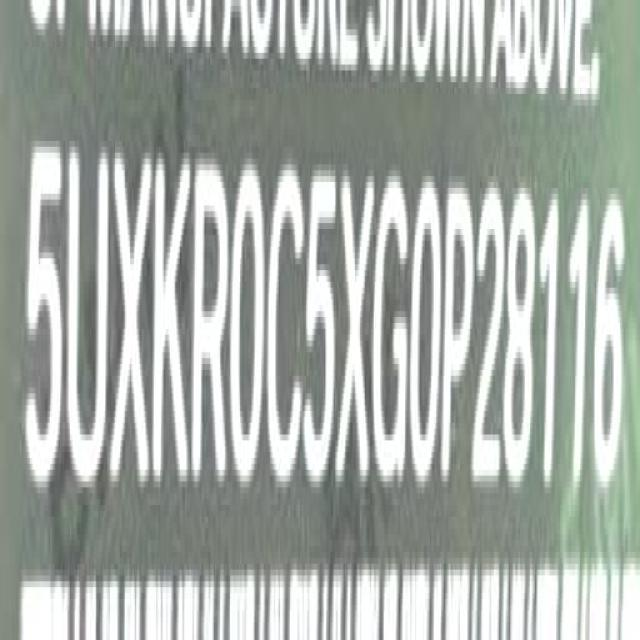0: (229, 157, 266, 500), (409, 170, 442, 489)
1: (538, 174, 562, 485), (568, 187, 592, 485)
2: (473, 176, 506, 489)
5: (24, 137, 64, 500), (304, 148, 338, 498)
6: (593, 194, 627, 485)
8: (502, 176, 538, 494)
C: (265, 158, 306, 494)
G: (371, 163, 412, 489)
K: (151, 150, 193, 505)
P: (441, 176, 475, 492)
R: (190, 152, 231, 500)
U: (63, 139, 110, 494)
X: (111, 144, 153, 492), (338, 165, 372, 496)
